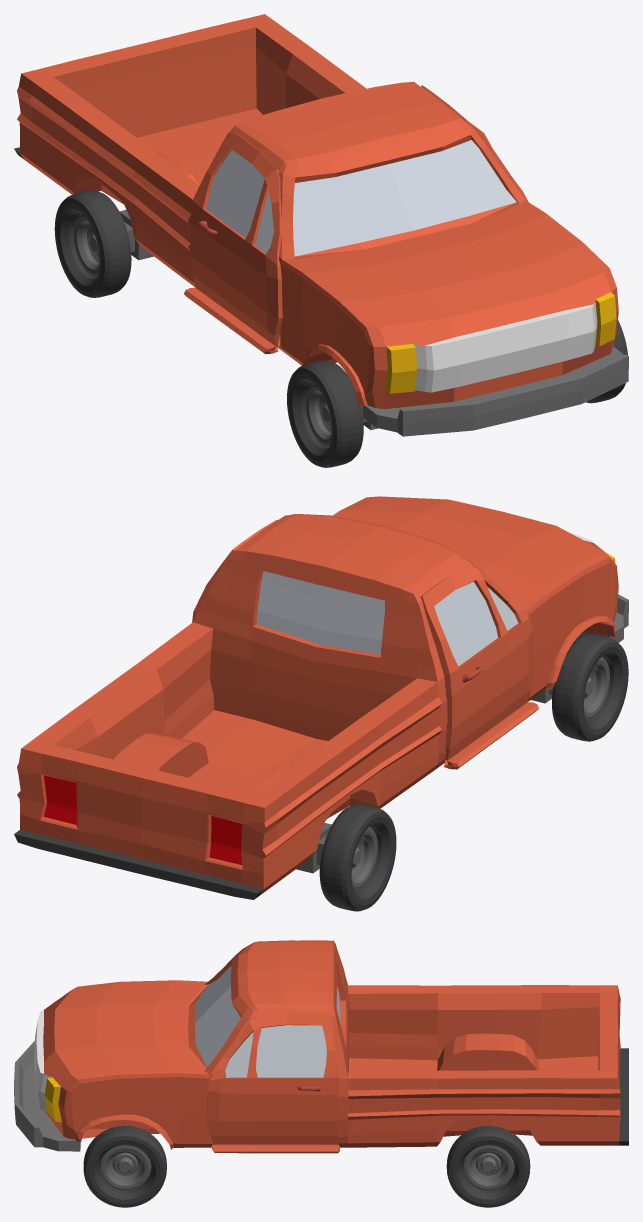
Rendered from PickupTruckA.fbx.
The picture shows the model from 3 angles, top to bottom: view 1: azimuth 30°, elevation 25°; view 2: azimuth 150°, elevation 25°; view 3: azimuth 270°, elevation 25°; orthographic projection. The views are drawn at different scales.
Parts seen in each view (by area): view 1: Body, Door, FrontWheels.001, FrontWheels.002, FrontWheelAxelInt.001, FrontWheelAxelInt.002; view 2: Body, Door, FrontWheels.002, FrontWheels.001, FrontWheelAxelInt.002, FrontWheelAxelInt.001; view 3: Body, Door, FrontWheels.002, FrontWheels.001, FrontWheelAxelInt.001, FrontWheelAxelInt.002.
Part boxes in pixels (x1,y1,x2,y2): Body: [14, 14, 628, 436]; Door: [183, 85, 528, 354]; FrontWheels.001: [287, 320, 627, 467]; FrontWheels.002: [54, 190, 131, 297]; FrontWheelAxelInt.001: [305, 383, 331, 446]; FrontWheelAxelInt.002: [73, 213, 99, 276]; Body: [14, 496, 628, 899]; Door: [192, 520, 538, 769]; FrontWheels.002: [319, 804, 396, 911]; FrontWheels.001: [552, 634, 628, 741]; FrontWheelAxelInt.002: [351, 827, 377, 890]; FrontWheelAxelInt.001: [583, 657, 609, 720]; Body: [14, 940, 628, 1151]; Door: [205, 940, 339, 1153]; FrontWheels.002: [446, 1126, 530, 1207]; FrontWheels.001: [83, 1126, 166, 1207]; FrontWheelAxelInt.001: [99, 1145, 151, 1190]; FrontWheelAxelInt.002: [462, 1145, 514, 1190].
Bounding box in the file's own units: 193 × 148 × 447.
